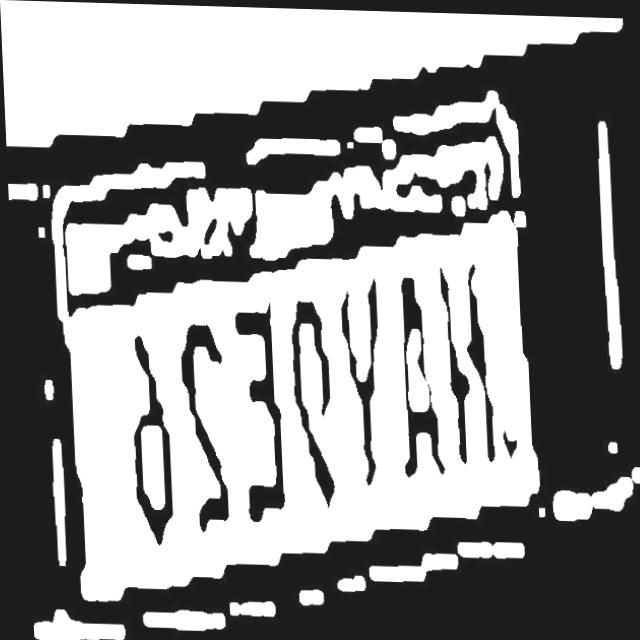2: (174, 315, 234, 542)
6: (121, 328, 174, 550)
9: (283, 293, 337, 509)
a: (389, 268, 441, 482)
e: (228, 297, 284, 524)
n: (435, 254, 495, 469)
y: (334, 278, 389, 490)
